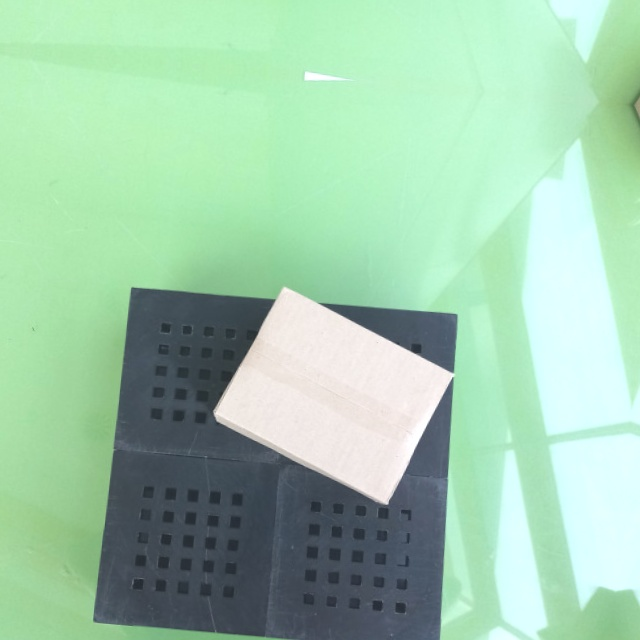box: (212, 283, 454, 512)
pallet: (85, 276, 457, 640)
